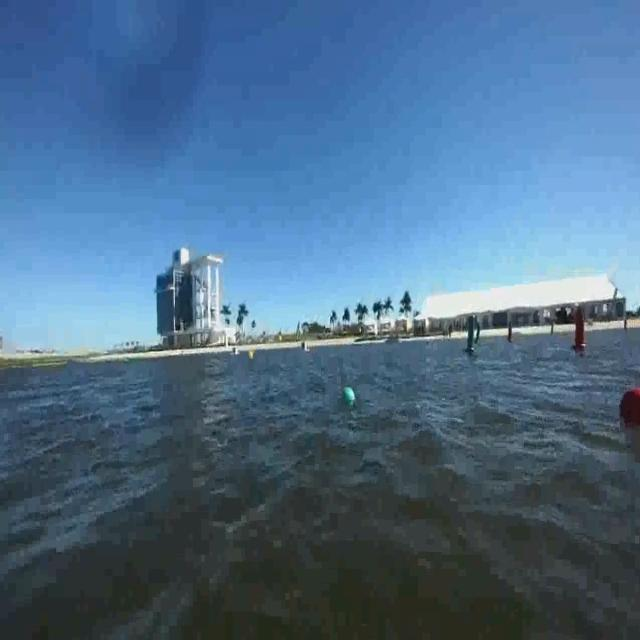green-buoy: (345, 388, 354, 404)
green-column-buoy: (464, 315, 480, 355)
red-buoy: (620, 387, 640, 427)
red-column-buoy: (571, 312, 586, 354)
yellow-buoy: (248, 348, 256, 362)
